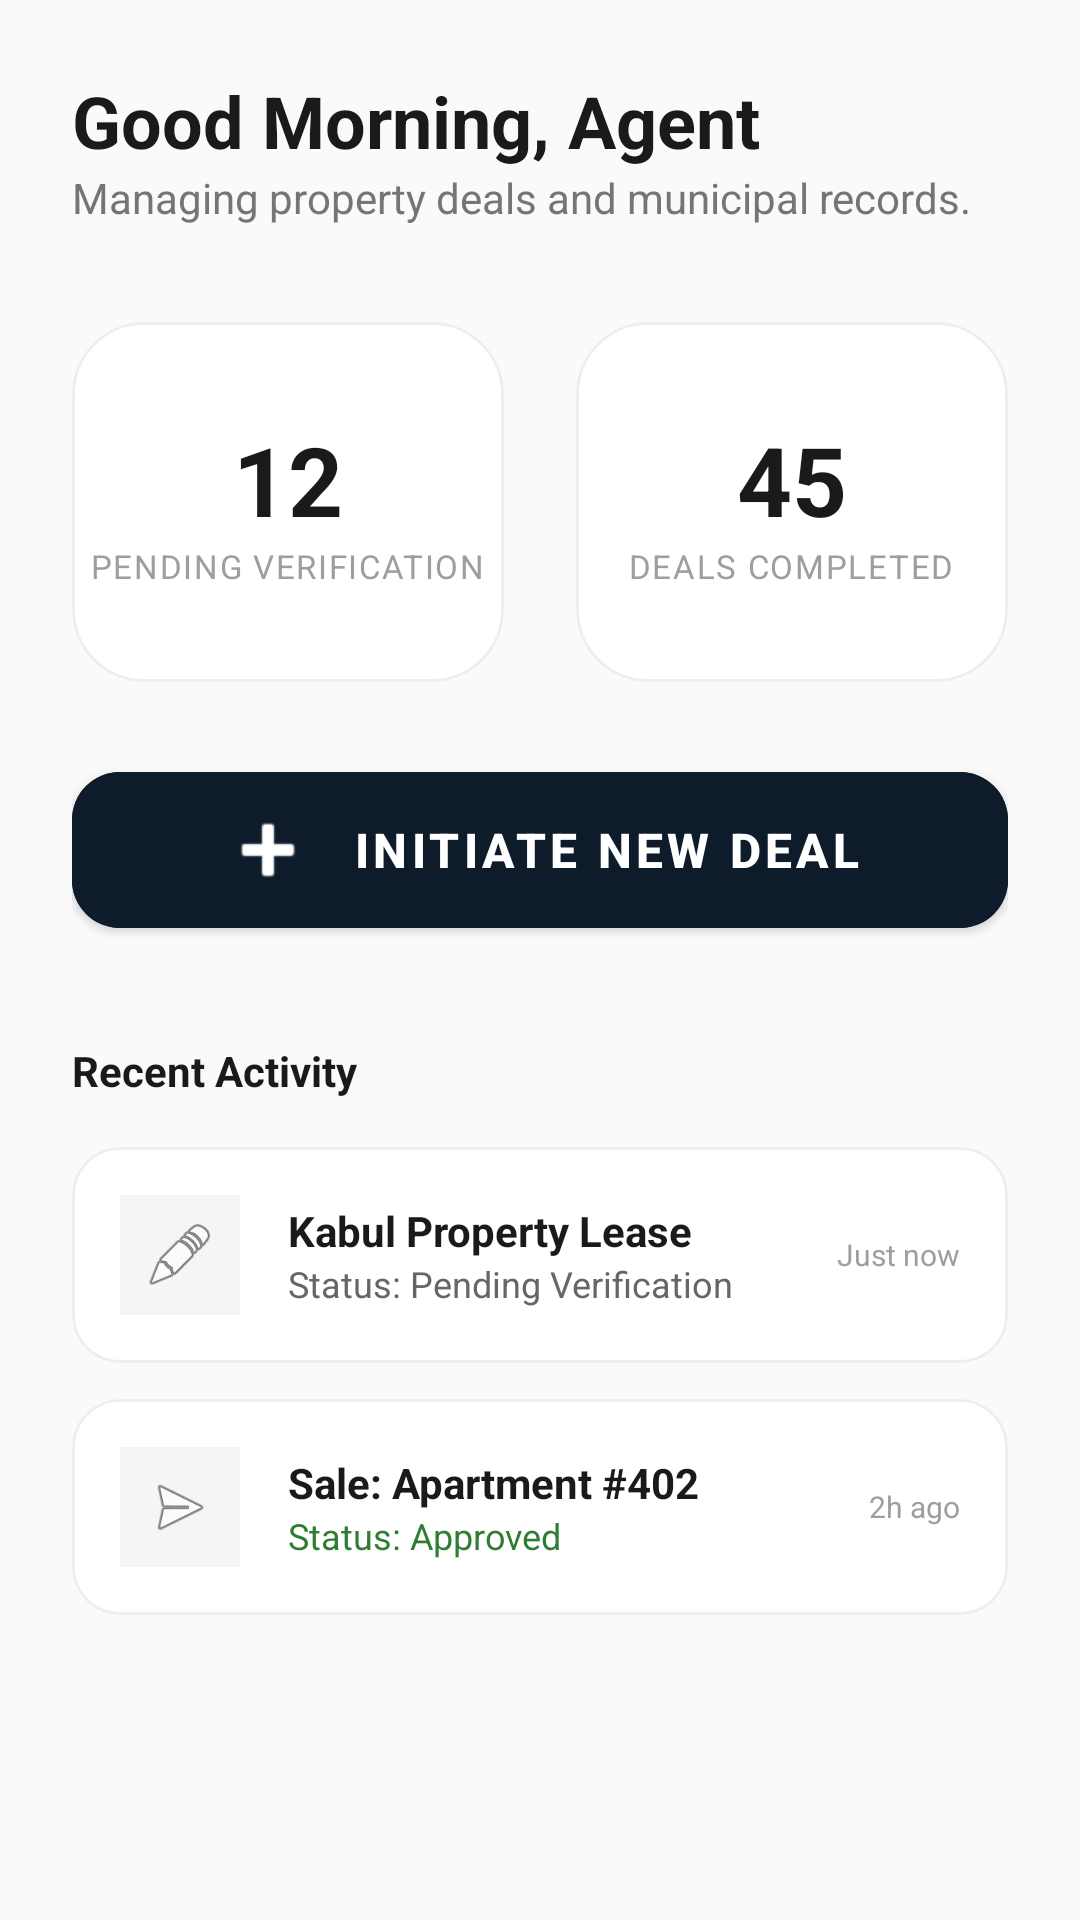

Named icons in this screenshot (1080w x 1920h) and their bounding boxes, (x1=x1, y1=y1, x2=x2, y2=y2):
edit: (x1=120, y1=1195, x2=240, y2=1315)
send: (x1=120, y1=1447, x2=240, y2=1567)
